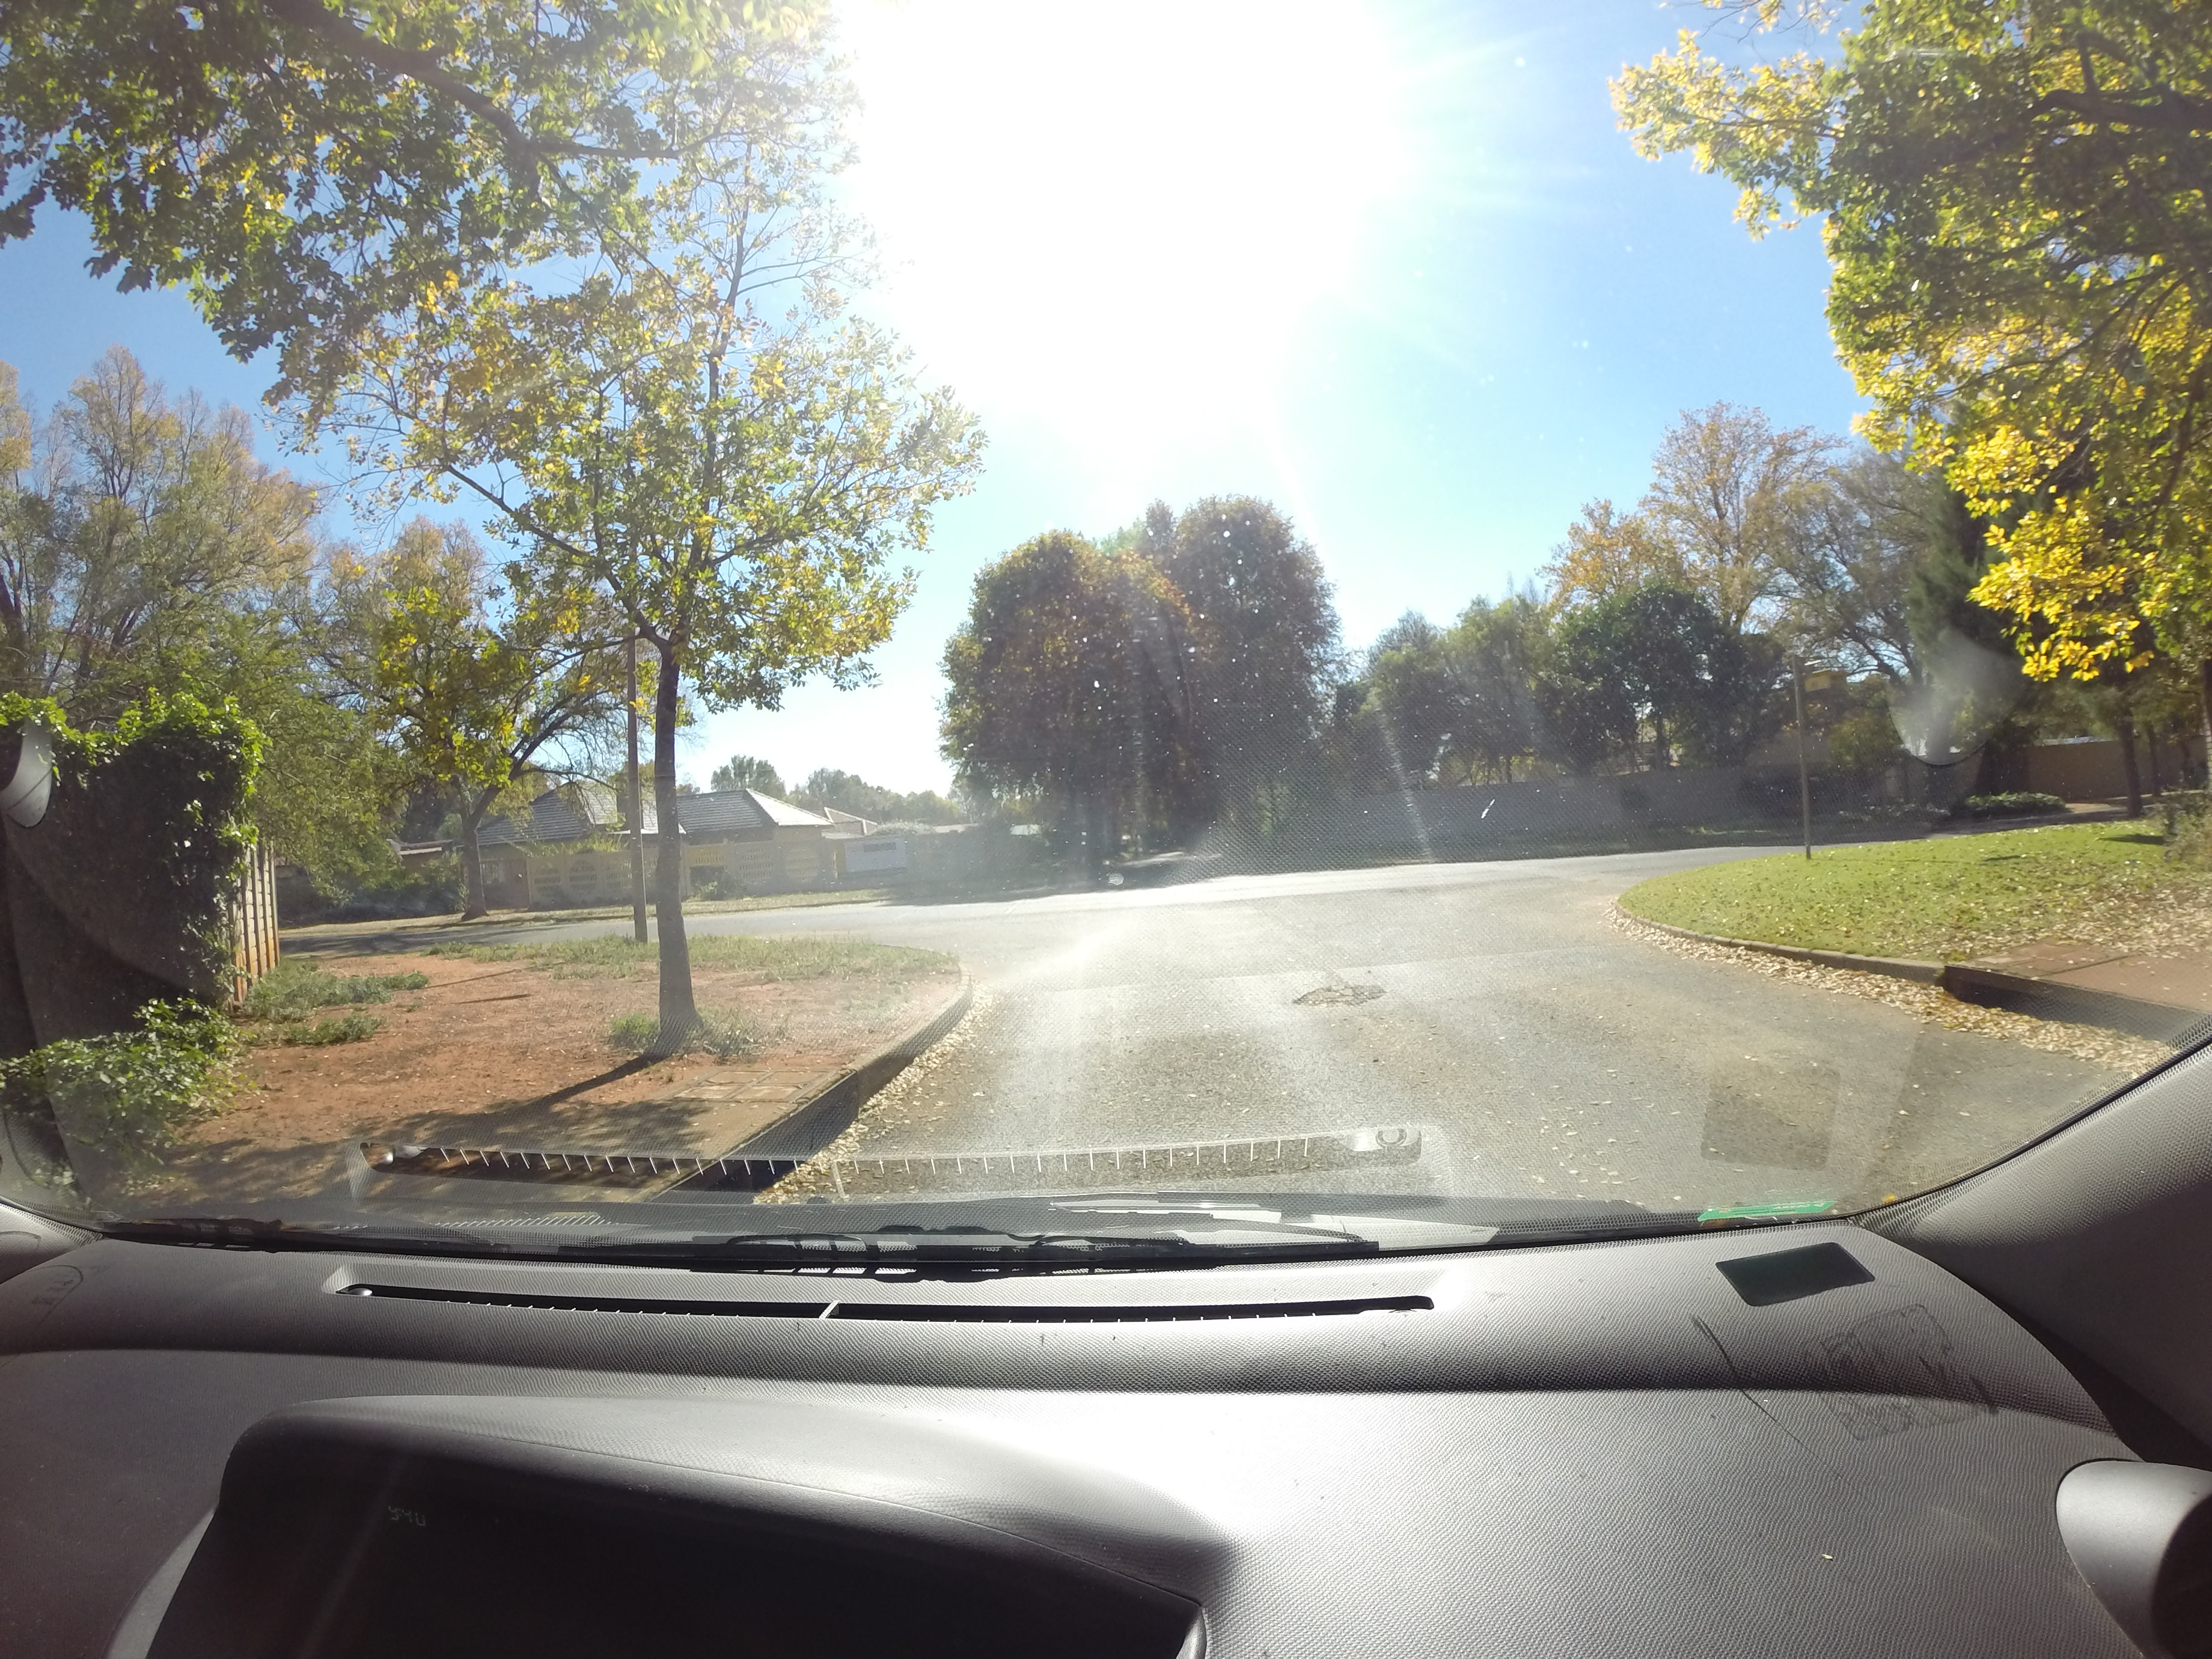pothole: (1282, 974, 1395, 1019)
